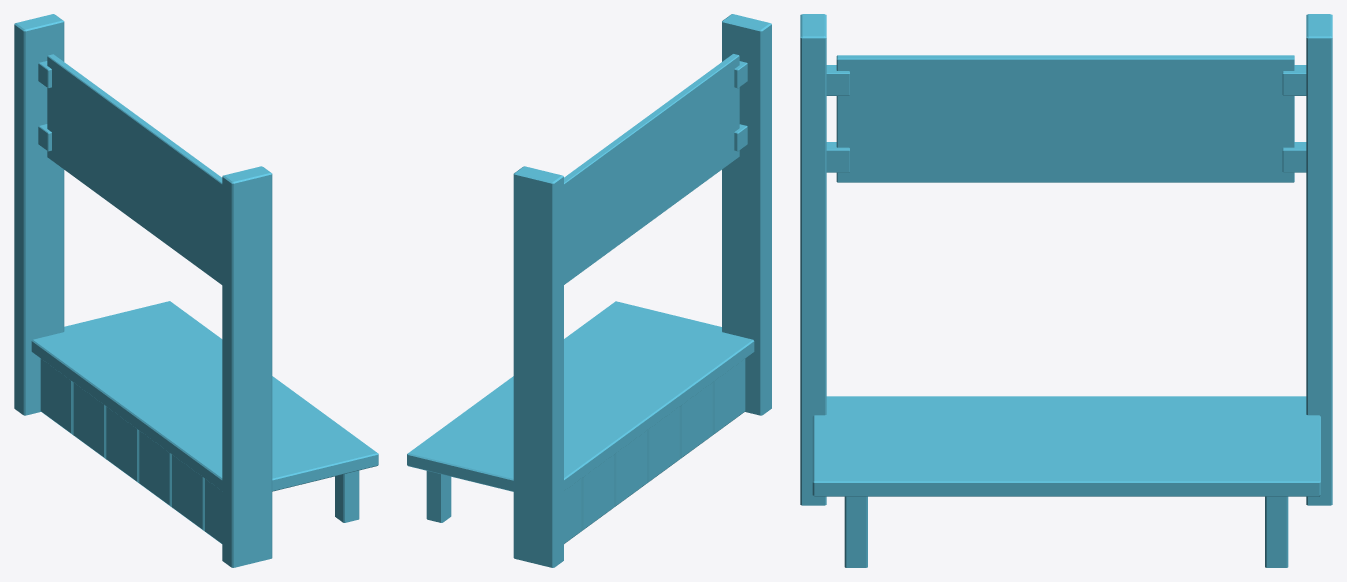
File: Kiosk00(1).fbx
3 views of the same model, side by side, from view 1: azimuth 30°, elevation 25°; view 2: azimuth 150°, elevation 25°; view 3: azimuth 270°, elevation 25° (orthographic). The views are drawn at different scales.
Visible parts, largest first — view 1: Kiosk; view 2: Kiosk; view 3: Kiosk.
Part boxes in pixels (box(x1,y1,x2,y2)): Kiosk: box(14, 14, 378, 567); Kiosk: box(407, 14, 771, 567); Kiosk: box(800, 14, 1332, 567).
Size of the model in its own units: 241 by 582 by 600.
